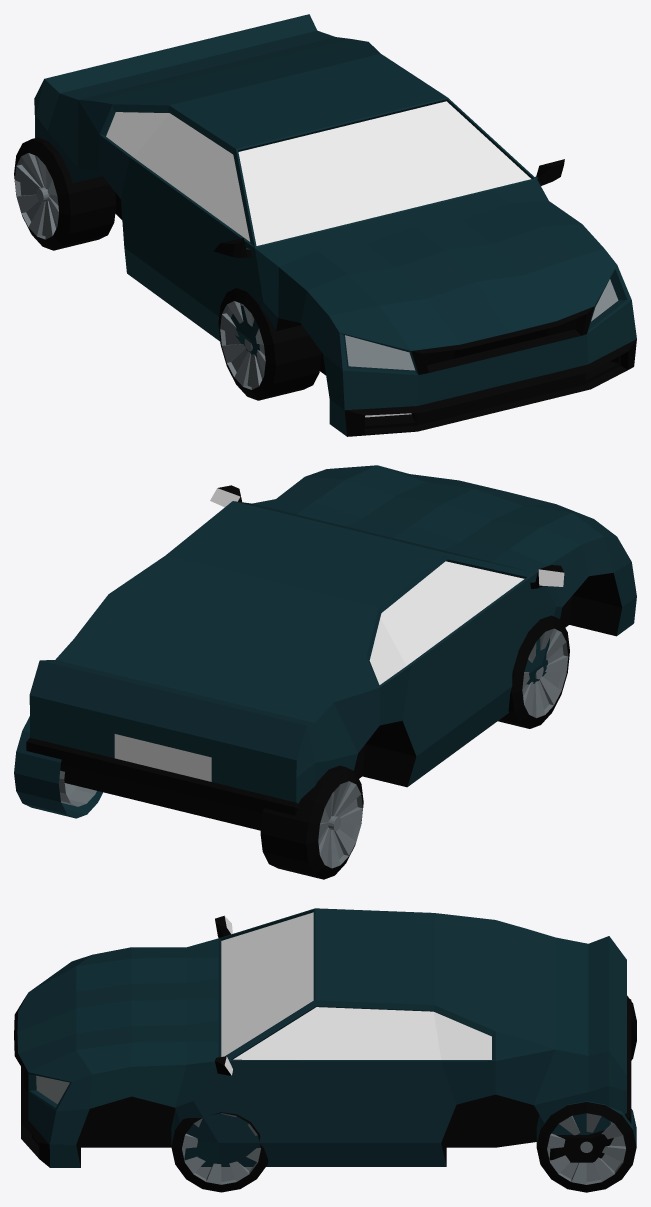
File: car.fbx
3 views of the same model, one above another, from view 1: azimuth 30°, elevation 25°; view 2: azimuth 150°, elevation 25°; view 3: azimuth 270°, elevation 25° (orthographic). The views are drawn at different scales.
Parts seen in each view (by area): view 1: Low Poly Sports Car, Low Poly Sports Car.003, Low Poly Sports Car.001; view 2: Low Poly Sports Car, Low Poly Sports Car.003, Low Poly Sports Car.001, Low Poly Sports Car.004; view 3: Low Poly Sports Car, Low Poly Sports Car.004, Low Poly Sports Car.002.
Part boxes in pixels (x1,y1,x2,y2): Low Poly Sports Car: [34, 14, 636, 436]; Low Poly Sports Car.003: [14, 137, 116, 250]; Low Poly Sports Car.001: [218, 288, 321, 400]; Low Poly Sports Car: [26, 465, 636, 830]; Low Poly Sports Car.003: [260, 765, 363, 879]; Low Poly Sports Car.001: [498, 615, 569, 728]; Low Poly Sports Car.004: [14, 716, 102, 818]; Low Poly Sports Car: [14, 908, 631, 1167]; Low Poly Sports Car.004: [536, 1101, 636, 1192]; Low Poly Sports Car.002: [171, 1110, 268, 1192].
Bounding box in the file's own units: 260 × 141 × 450.
